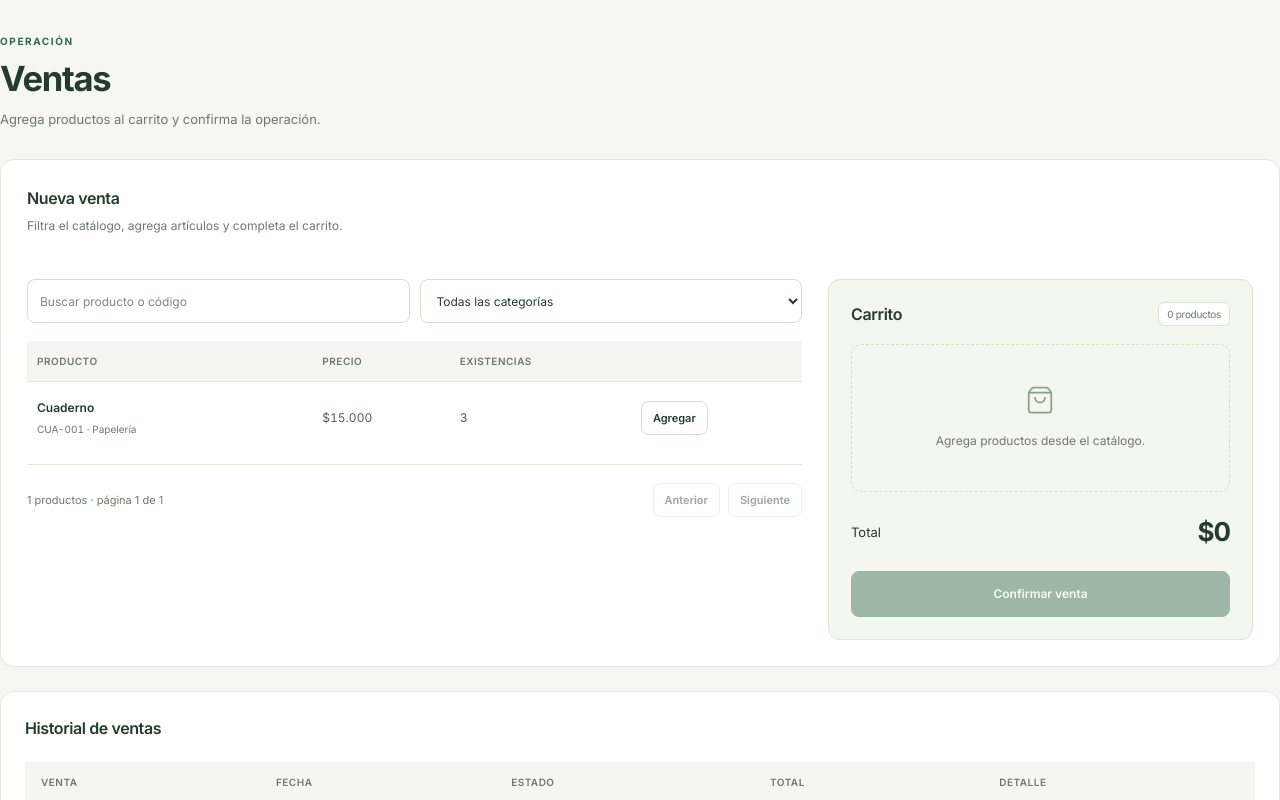
Test: carrito cambia cantidades, elimina artículos y bloquea stock insuficiente
Click the button "Agregar" at (674, 418), box [641, 401, 708, 435]
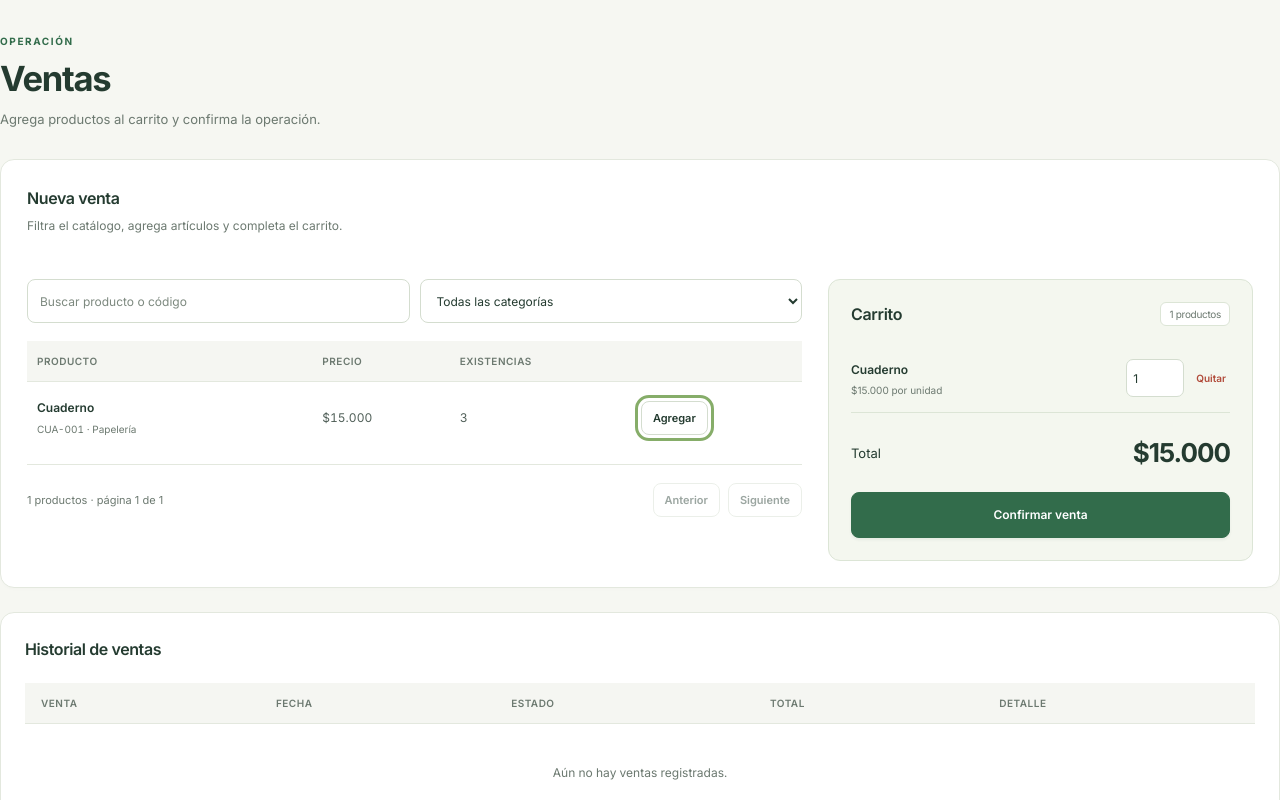
Replace the text in the number field named "Cantidad de Cuaderno" with "4" at (1155, 378), box [1126, 359, 1184, 397]
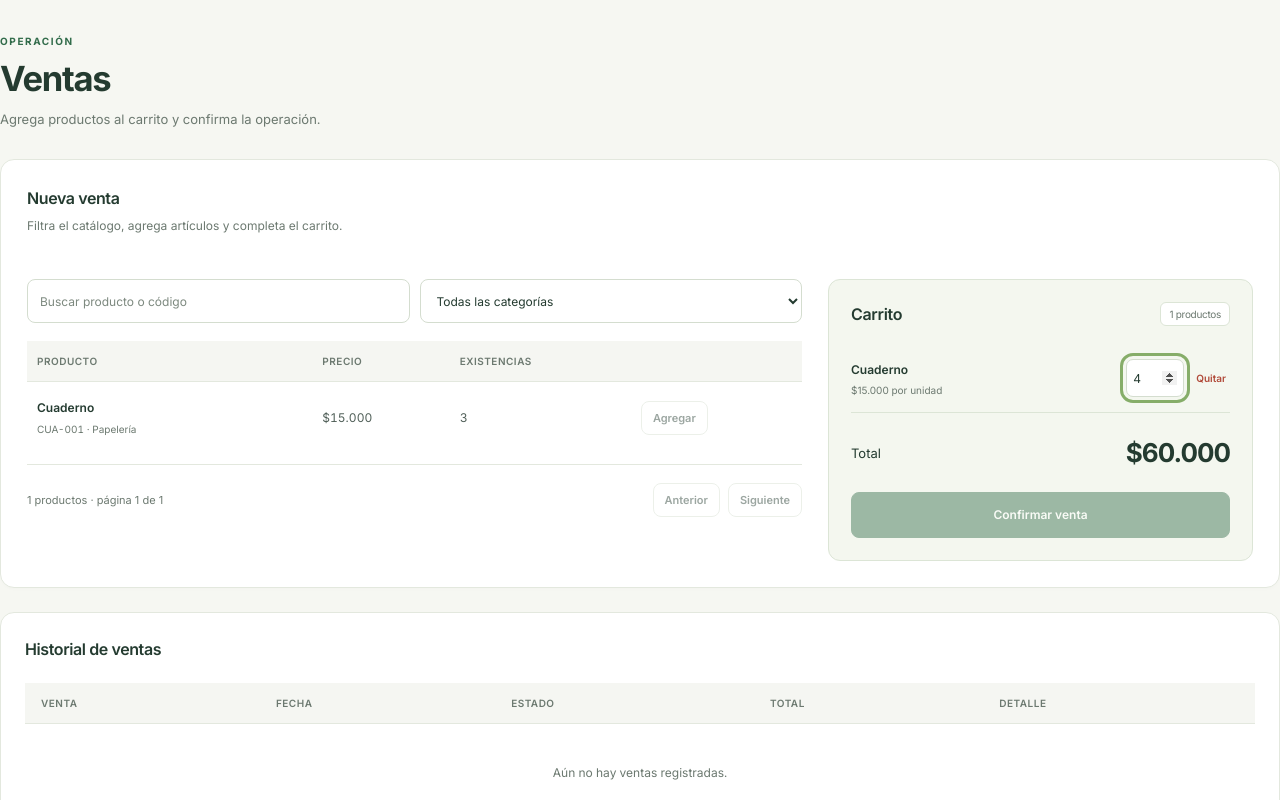
Check: the button "Confirmar venta" is disabled, box [851, 492, 1230, 538]
Replace the text in the number field named "Cantidad de Cuaderno" with "2" at (1155, 378), box [1126, 359, 1184, 397]
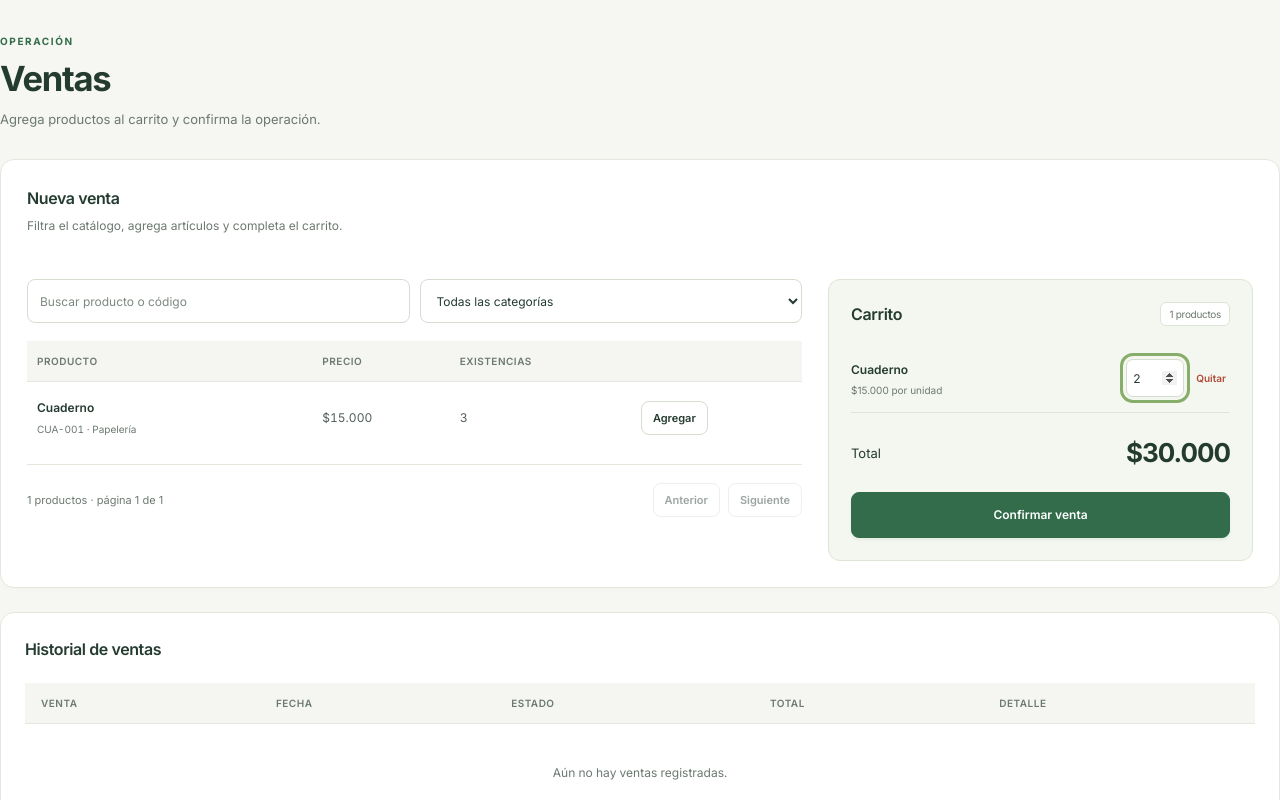
Check: the text "$30.000" is shown, box [1126, 437, 1230, 468]
Click the button "Quitar" at (1211, 378), box [1192, 361, 1230, 395]
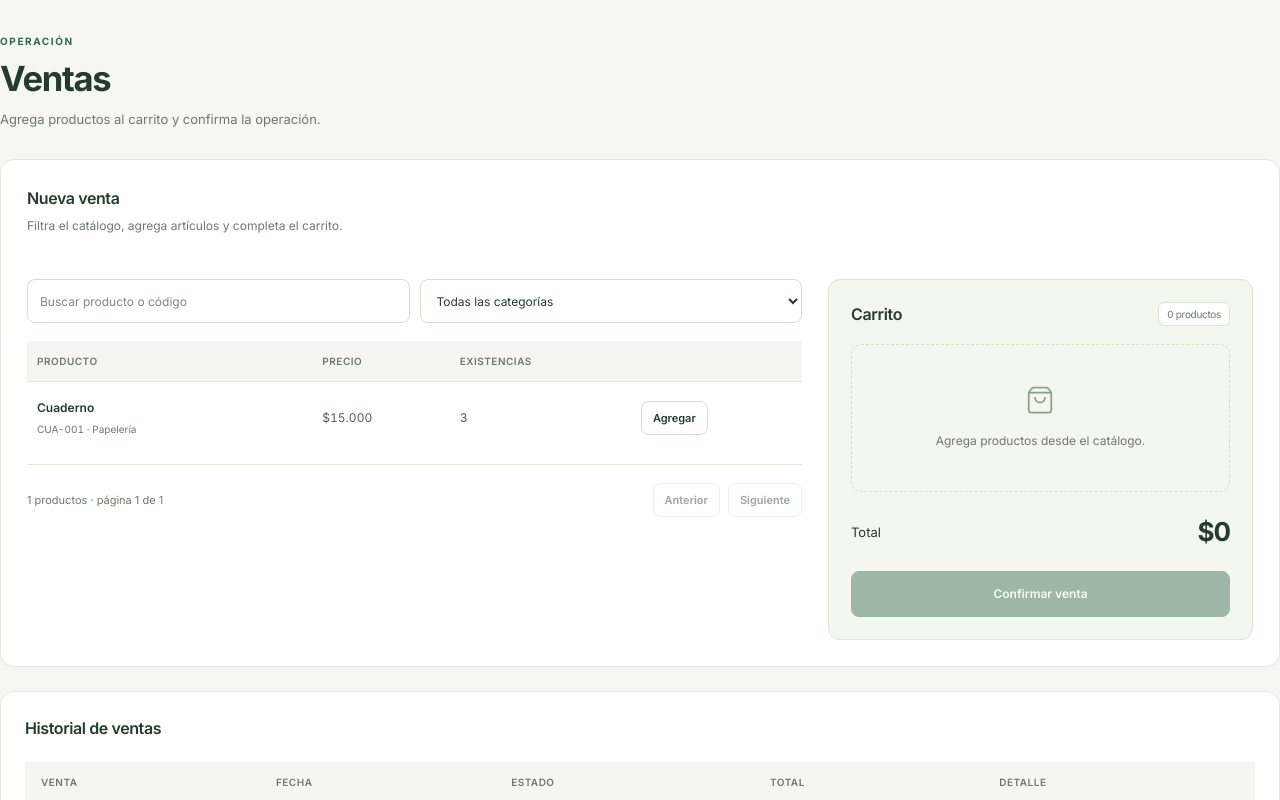
Check: the button "Confirmar venta" is disabled, box [851, 572, 1230, 618]
